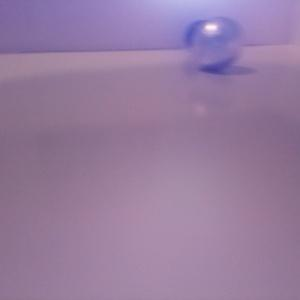alive_ball: (190, 16, 244, 71)
dead_ball: (185, 20, 213, 48)
